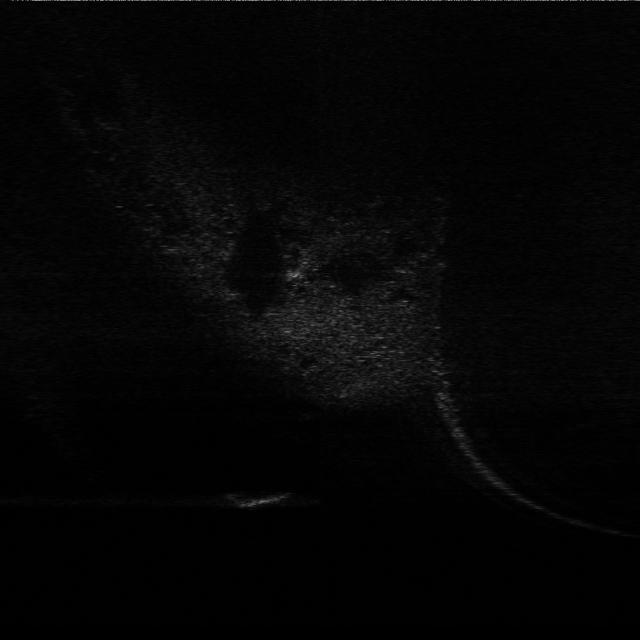square cage: (222, 474, 303, 514)
